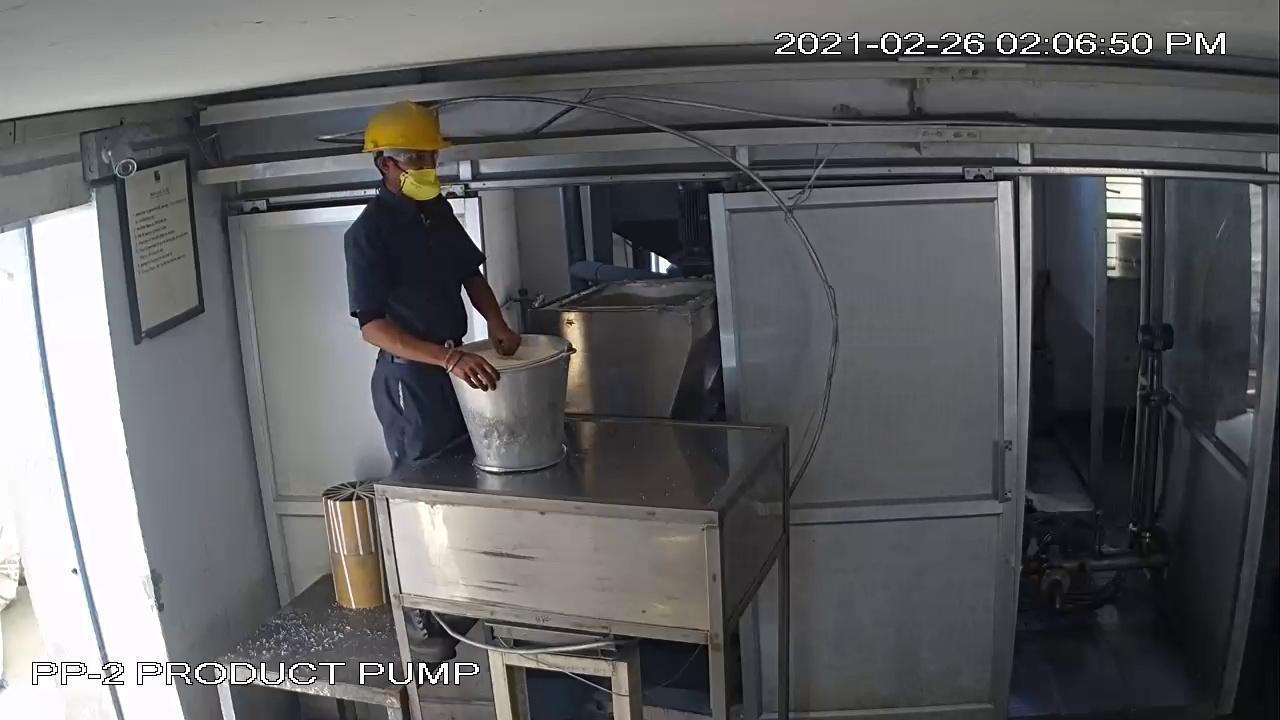helmet: (354, 97, 466, 164)
